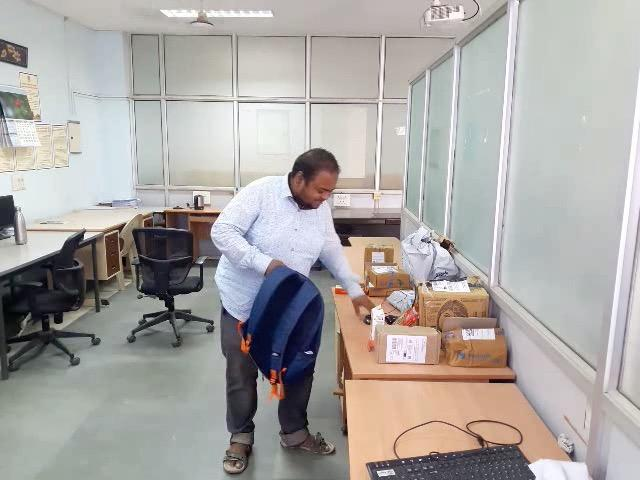shoplifting: (145, 217, 426, 415)
